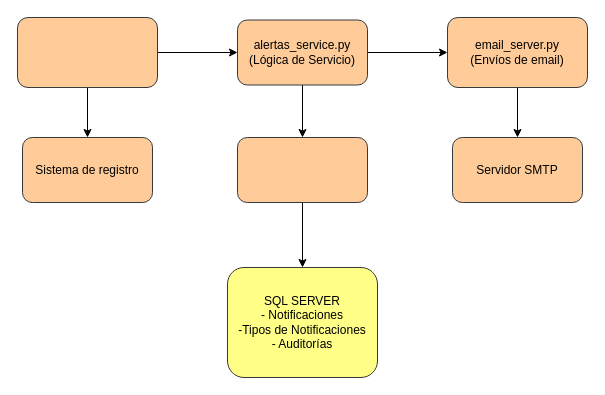
The diagram is 605 pixels wide and 395 high, and some of its shapes have lost their labels. Here are the shapes that lost their labels. From the top down, the centre of each, then its label:
pixel 87 52: main.py (Orquestador Principal)
pixel 302 169: database_config.py (Acceso a la BD)
